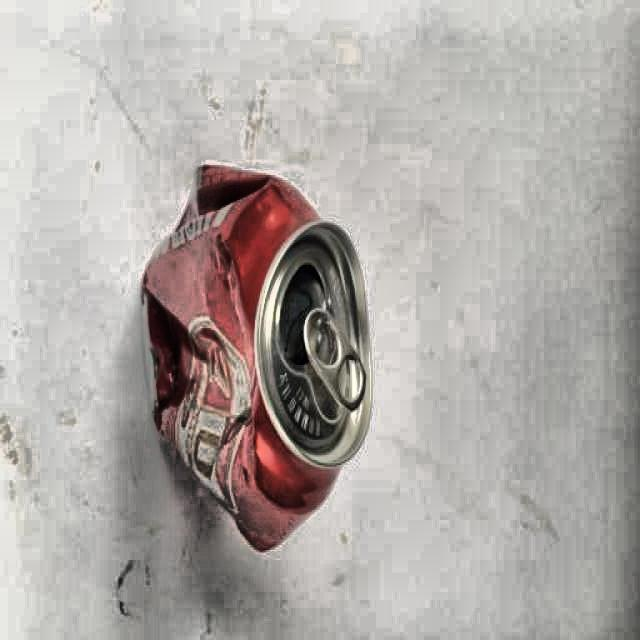metal: (140, 165, 374, 555)
